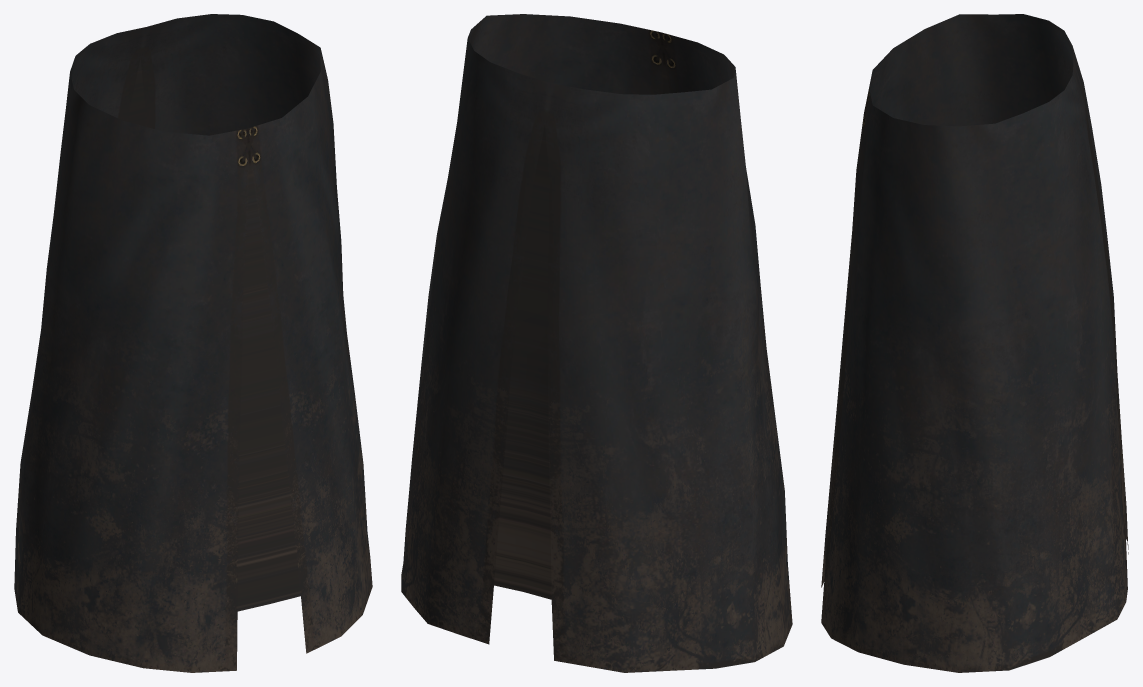
Rendered from clo_ithilien_jerkin_long.fbx.
The picture shows the model from 3 angles, left to right: view 1: azimuth 30°, elevation 25°; view 2: azimuth 150°, elevation 25°; view 3: azimuth 270°, elevation 25°; orthographic projection. The views are drawn at different scales.
Parts seen in each view (by area): view 1: clo_ithilien_jerkin_long; view 2: clo_ithilien_jerkin_long; view 3: clo_ithilien_jerkin_long.
Part boxes in pixels (bbox=[...]): clo_ithilien_jerkin_long: bbox=[14, 14, 372, 672]; clo_ithilien_jerkin_long: bbox=[401, 14, 792, 672]; clo_ithilien_jerkin_long: bbox=[821, 14, 1128, 672].
Size of the model in its own units: 0.5016 by 0.4014 by 0.7859.
1 material, 1 textured.
